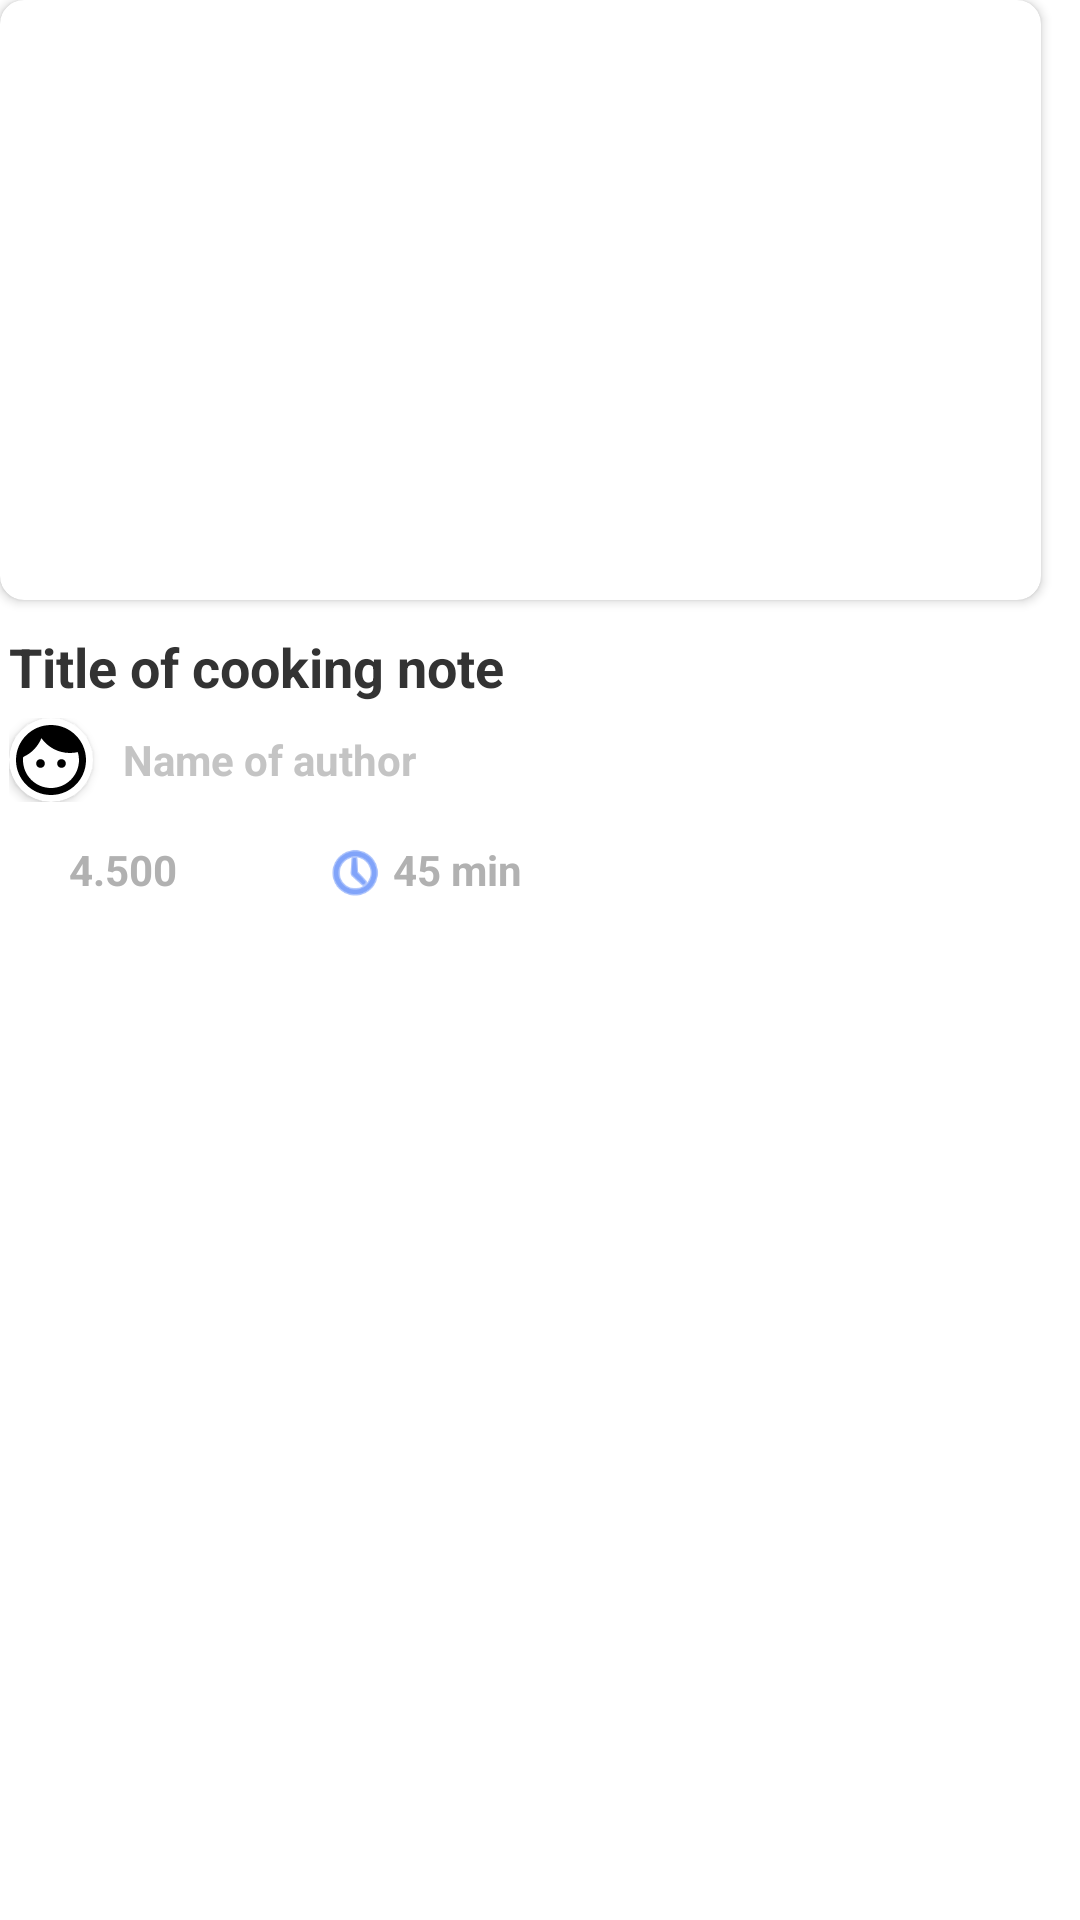

Icon click points for this 1080*1920 phone screenshot, format [x,y]:
recent history: [355,873]
